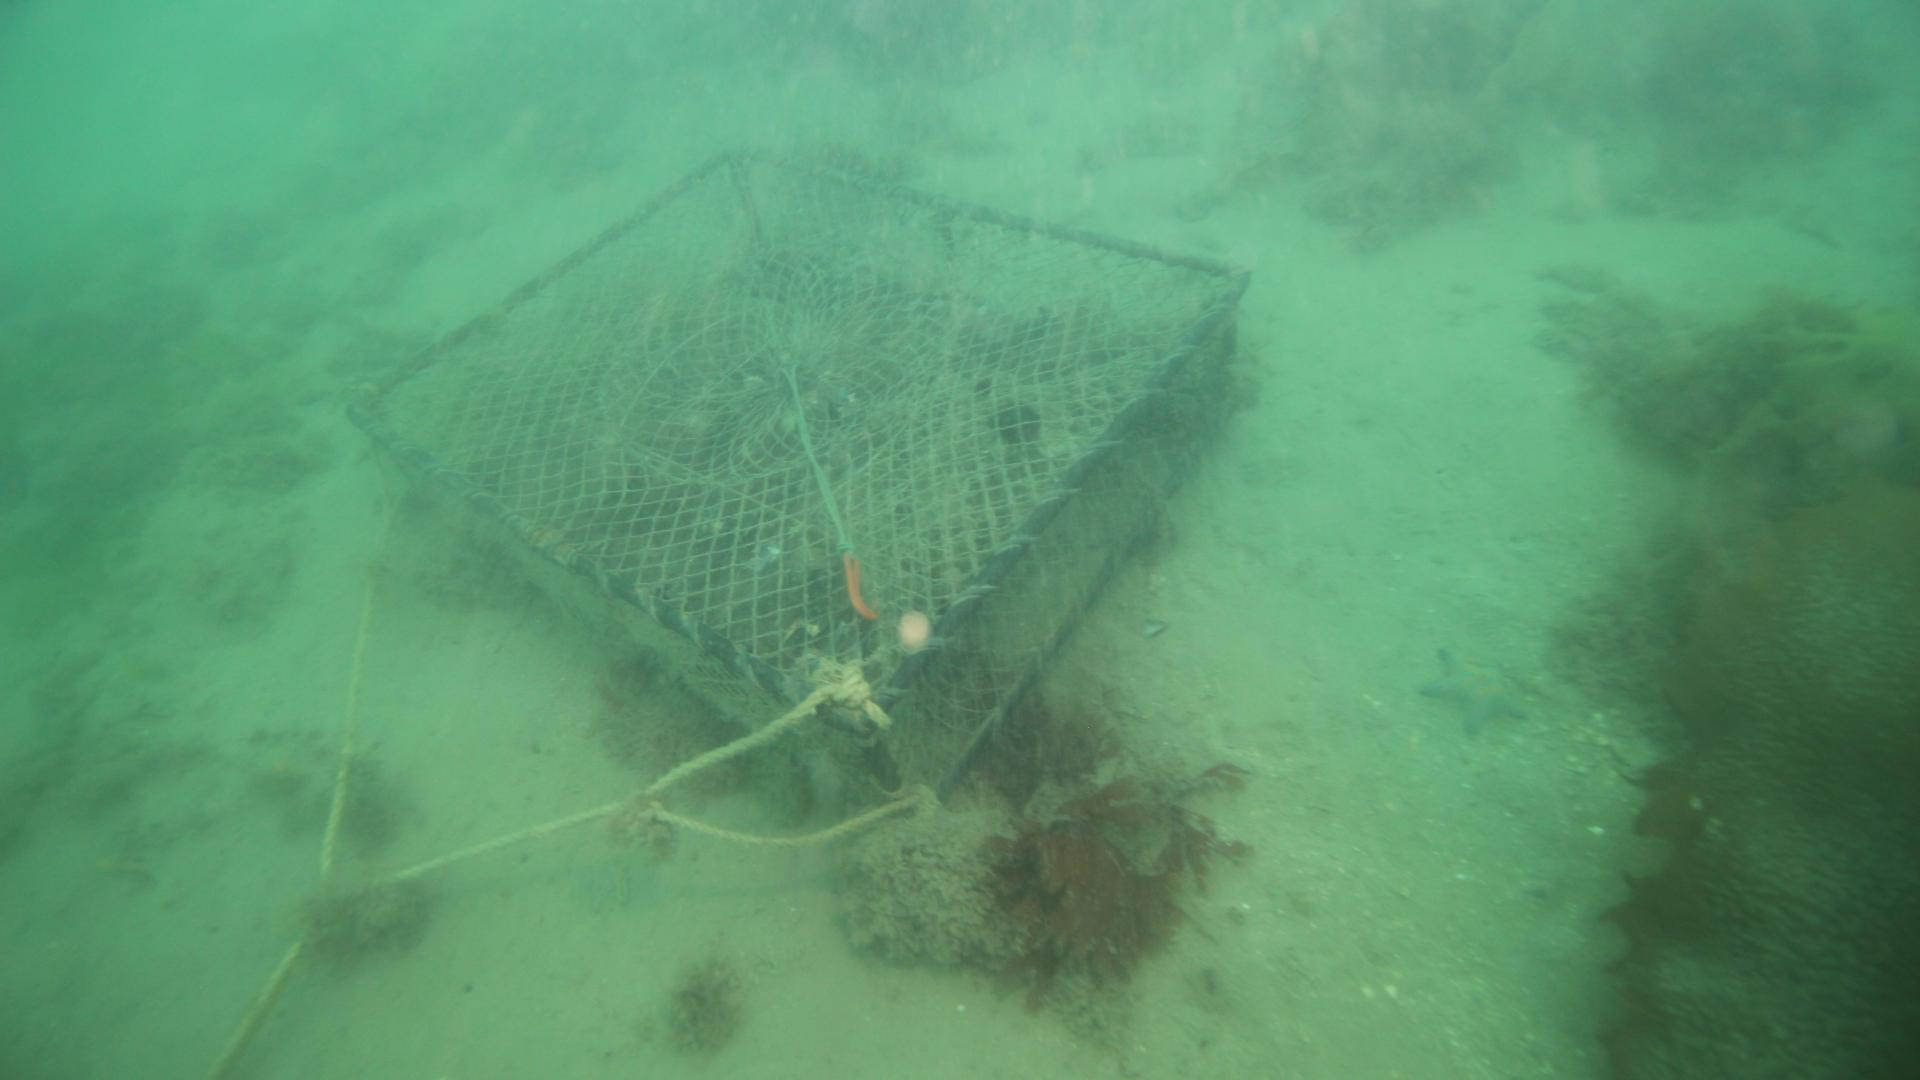bundle of ropes: (185, 435, 951, 1080)
rectangular fish trap: (342, 127, 1244, 818)
